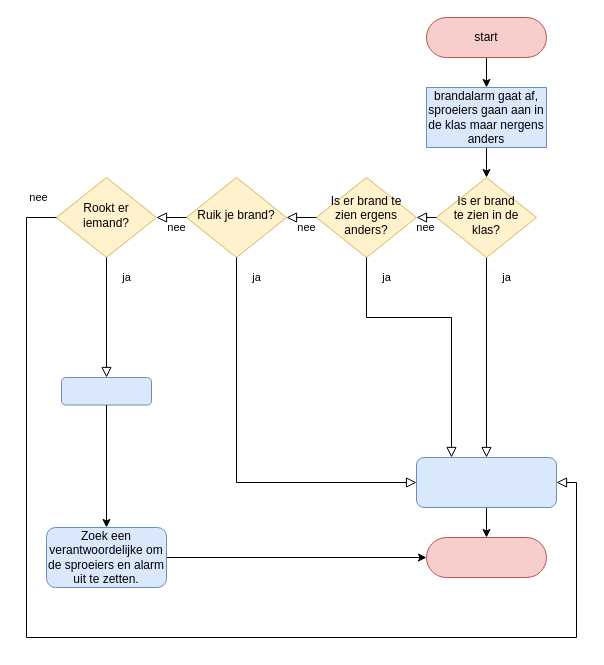
Some shapes in this 604 by 665 pixel diagram are drawn without their labels. Here are the shapes that lost their labels. From the top down, the centre of each, then its label:
(x=106, y=390): Stop de roker
(x=486, y=482): Ga naar buiten en laat verantwoordelijken iets weten.
(x=486, y=557): stop
